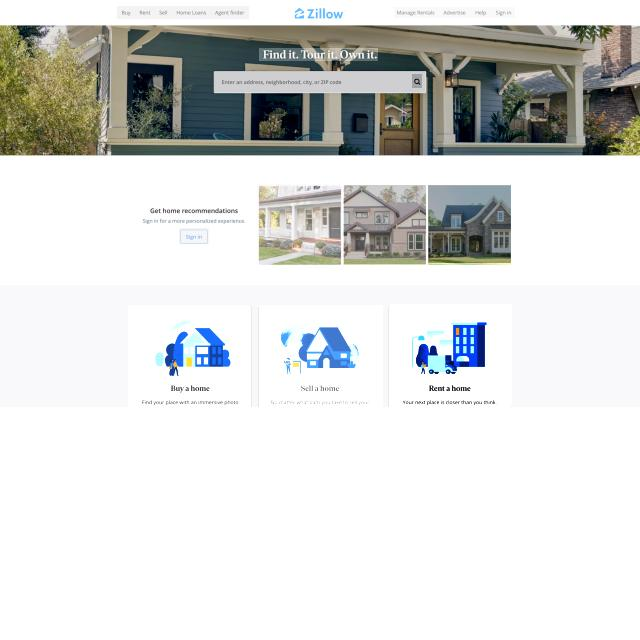CheckBox: (179, 228, 209, 244)
CheckedTextView: (214, 70, 425, 92)
Spinner: (259, 305, 383, 408), (128, 305, 250, 407), (390, 304, 512, 406)
bag: (0, 0, 640, 25)
card: (0, 26, 640, 156)
carousel: (412, 74, 422, 88)
copy: (257, 184, 340, 264), (344, 185, 426, 264), (428, 185, 511, 263)
date picker: (291, 4, 349, 22)
decoration: (117, 6, 249, 19), (394, 7, 515, 18)
image: (259, 48, 378, 61)
